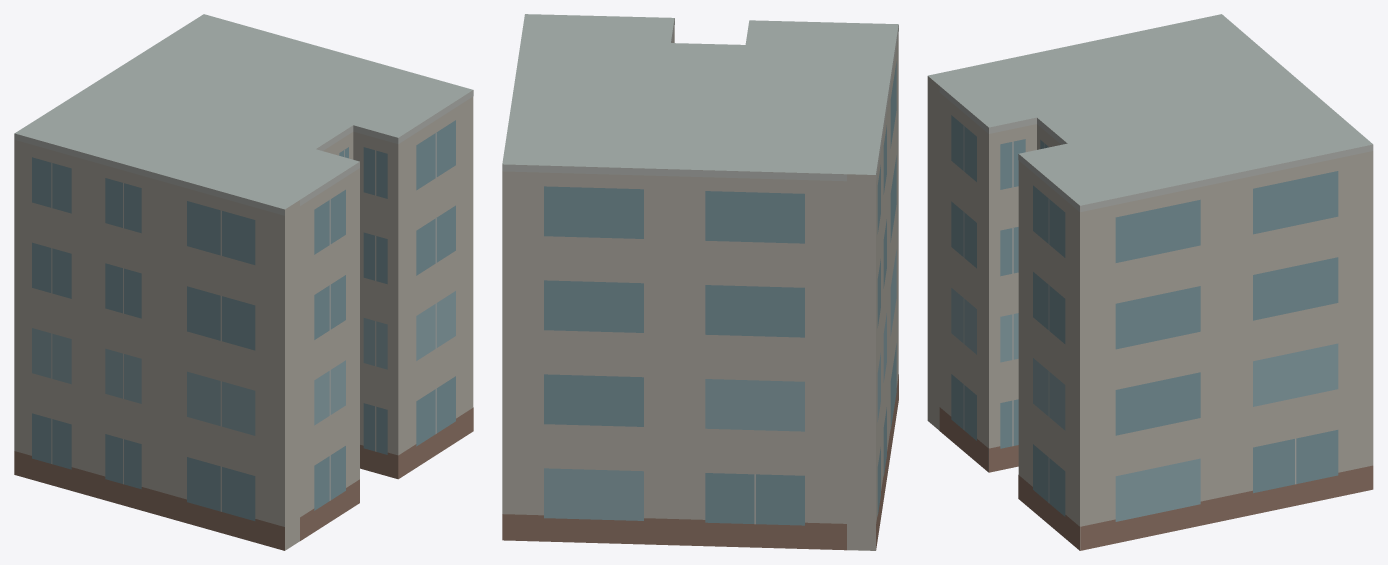
Rendered from survey-upis-32993611.glb.
3 renders of one model, left to right at view 1: azimuth 30°, elevation 25°; view 2: azimuth 150°, elevation 25°; view 3: azimuth 270°, elevation 25°, orthographic. The views are drawn at different scales.
Visible parts, largest first — view 1: survey-upis-32993611.tmp; view 2: survey-upis-32993611.tmp; view 3: survey-upis-32993611.tmp.
Boxes of the visible parts, x1,y1,x2,y2 form: survey-upis-32993611.tmp: (14, 14, 473, 550); survey-upis-32993611.tmp: (502, 14, 898, 550); survey-upis-32993611.tmp: (927, 14, 1373, 550).
Bounding box in the file's own units: 15.53 × 13.02 × 15.25.
